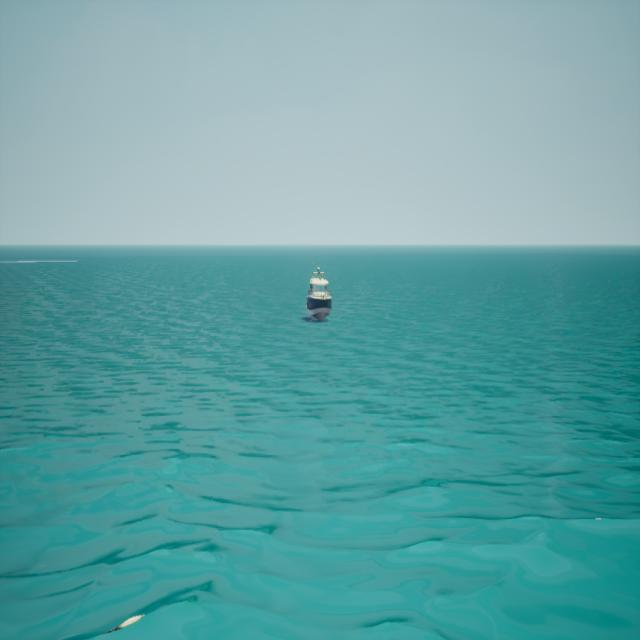ship: (307, 266, 333, 321)
